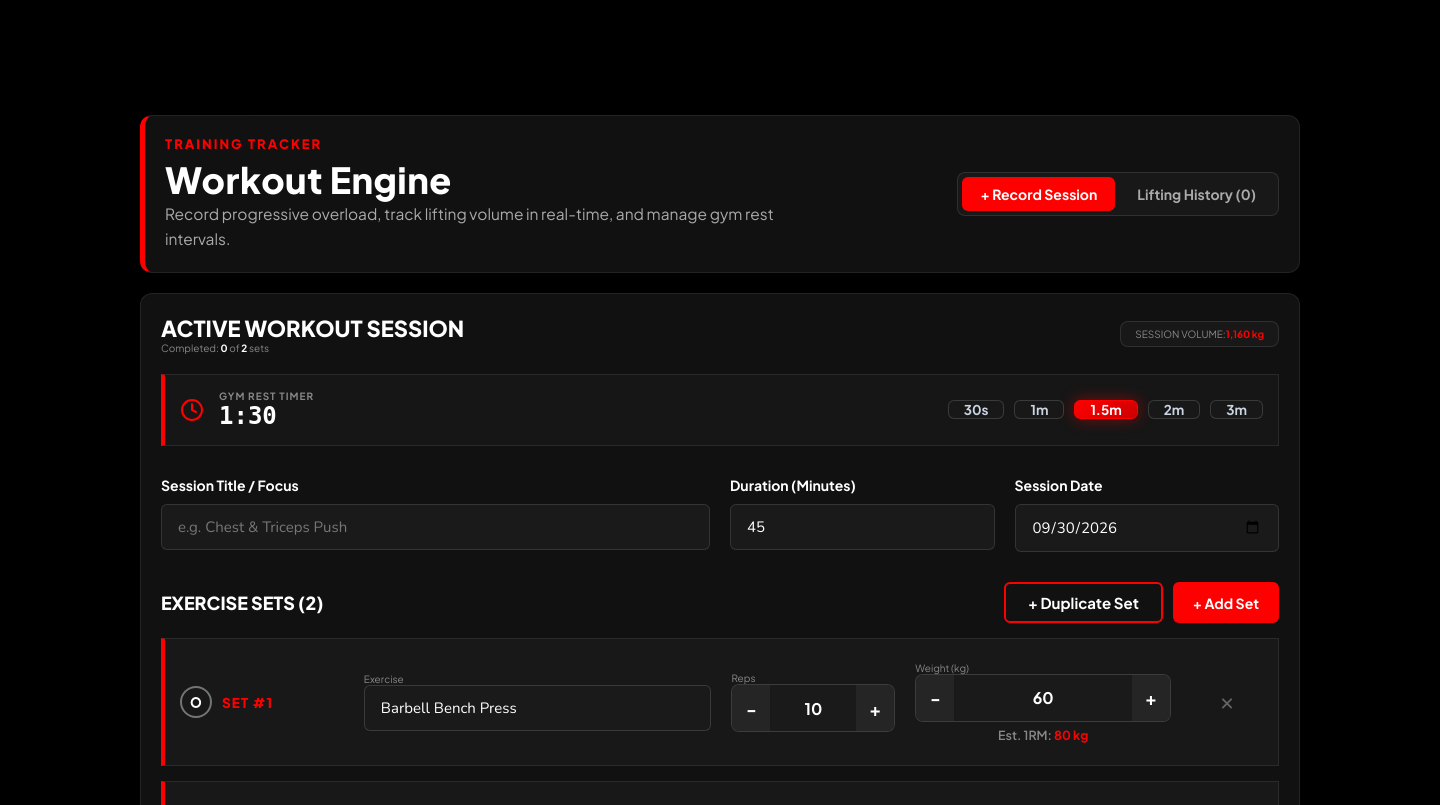
MyFit Frontend Tests (Phase 2 with AuthContext) › WorkoutLogger renders rest timer, session volume, and allows set operations
The image size is (1440, 805).
expect the text "GYM REST TIMER" is shown: met, box left=219, top=390, right=314, bottom=402
expect the text "SESSION VOLUME:" is shown: met, box left=1135, top=328, right=1226, bottom=340
# Trigger duplicate set
What coordinates should you click on to do the following:
click the button "+ Duplicate Set"
I would click on:
 (1083, 603)
Its box is left=1004, top=582, right=1163, bottom=623.
(page scrolled)
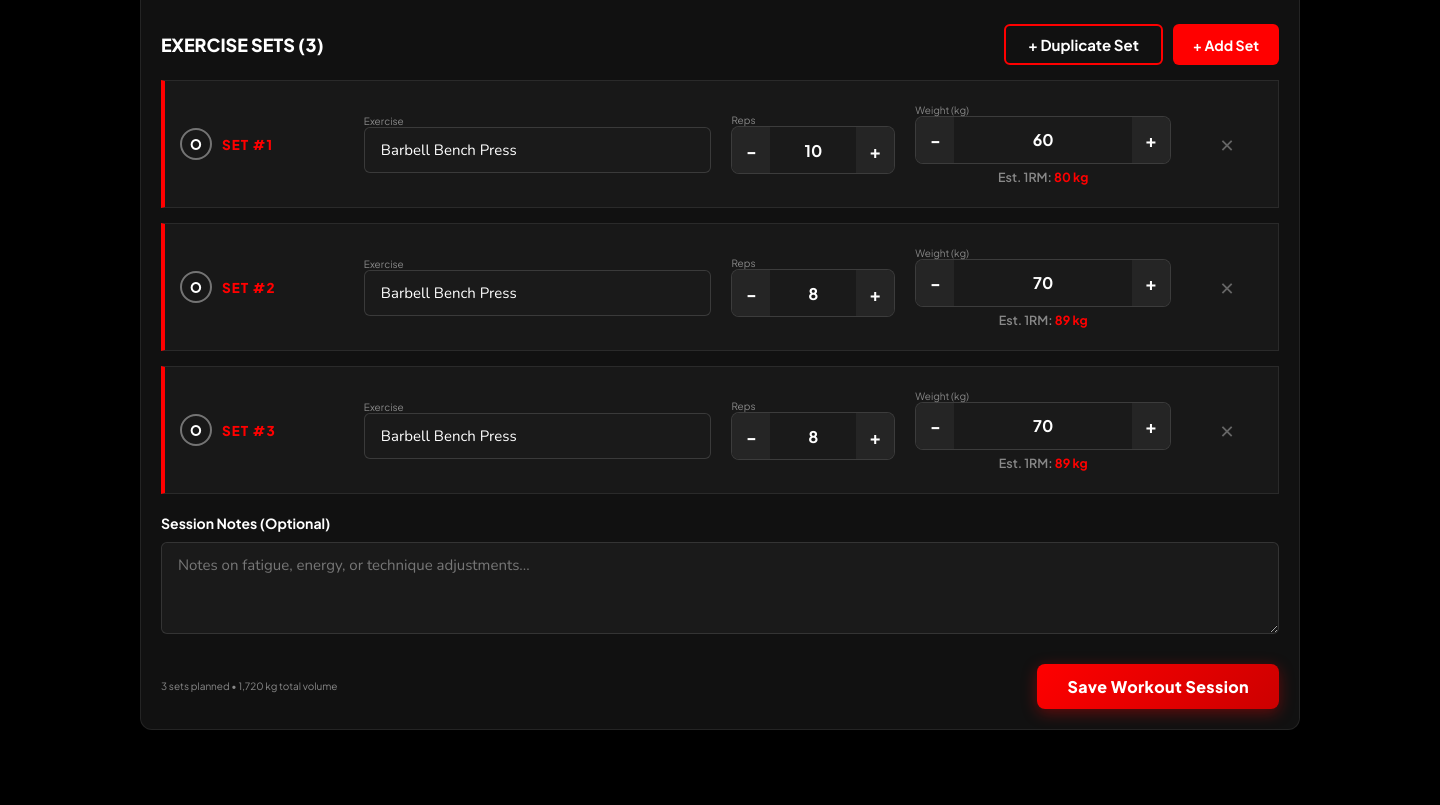
expect the text "SET #3" is shown: met, box left=222, top=422, right=276, bottom=439
